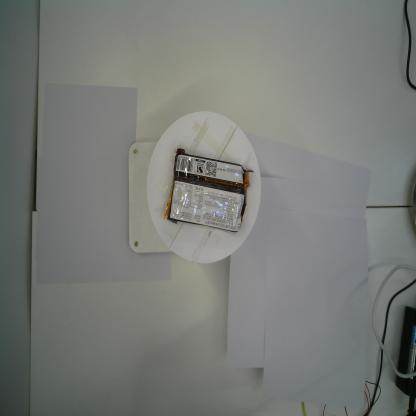Dessert: (162, 144, 254, 240)
